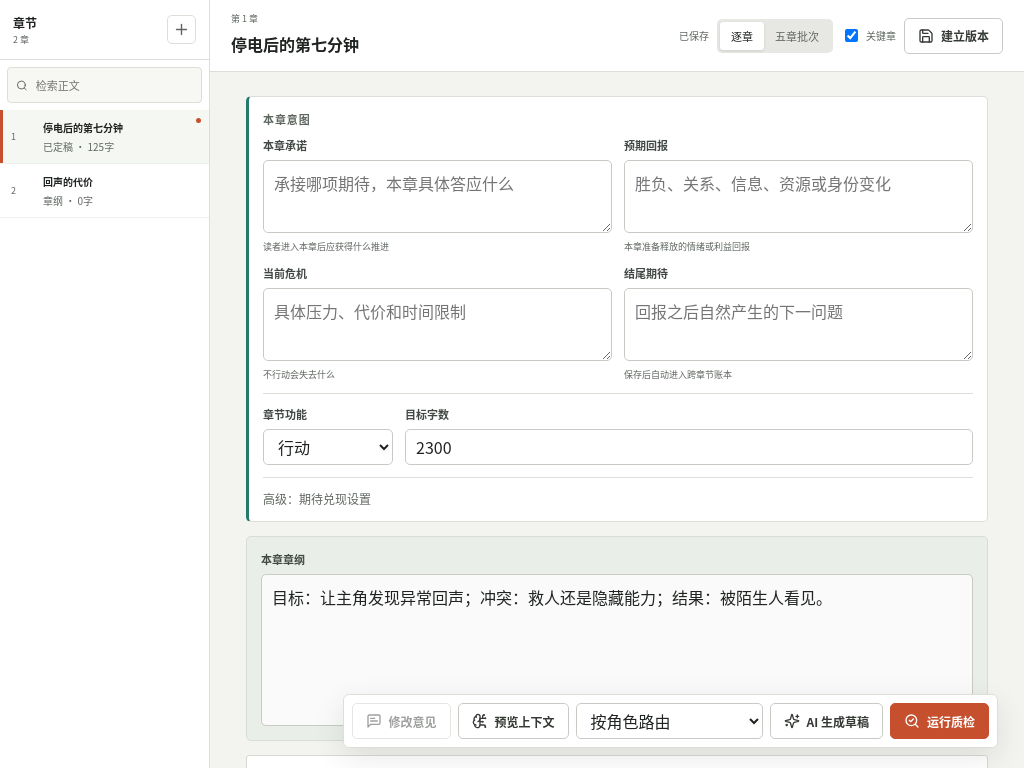
Test: AI generated draft review (director mode) › blocks acceptance when a hard issue exists
What coordinates should you click on to do the following:
click the button "AI 生成草稿"
I would click on:
 (826, 721)
Its box is top-left (770, 703), bottom-right (883, 739).
(page scrolled)
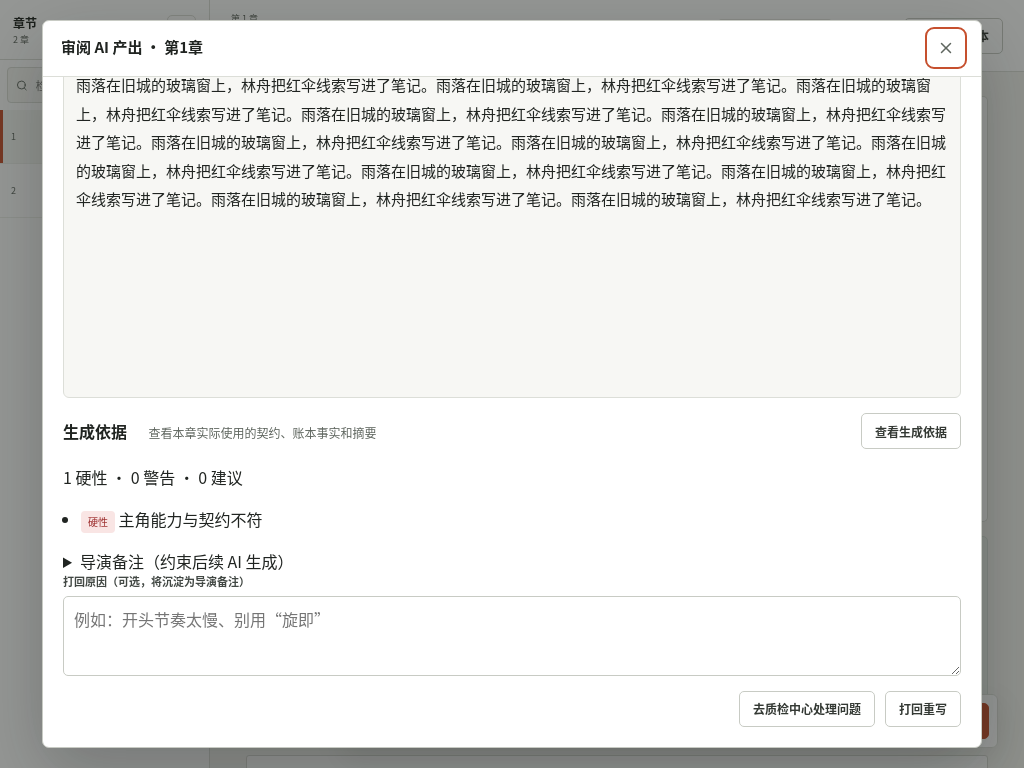
Now the dialog "审阅 AI 产出" is shown
Now the button "去质检中心处理问题" is shown
What coordinates should you click on to do the following:
click the button "去质检中心处理问题"
I would click on:
 (807, 708)
Its box is top-left (739, 690), bottom-right (875, 726).
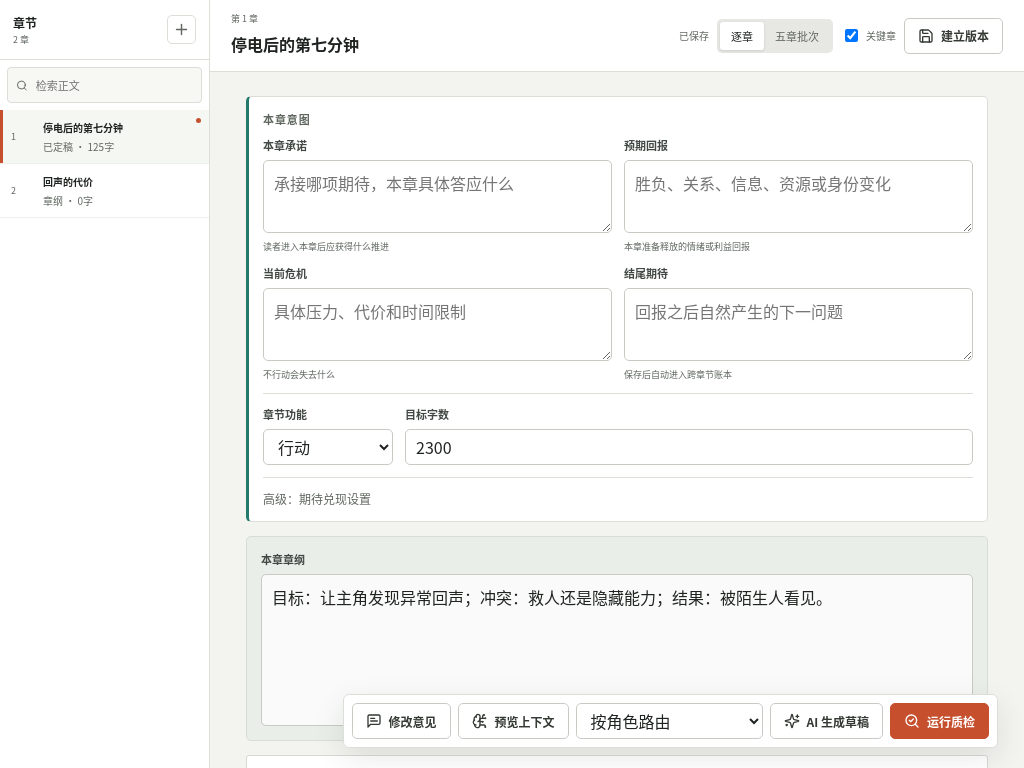
Now the heading "审阅 AI 产出" is gone
